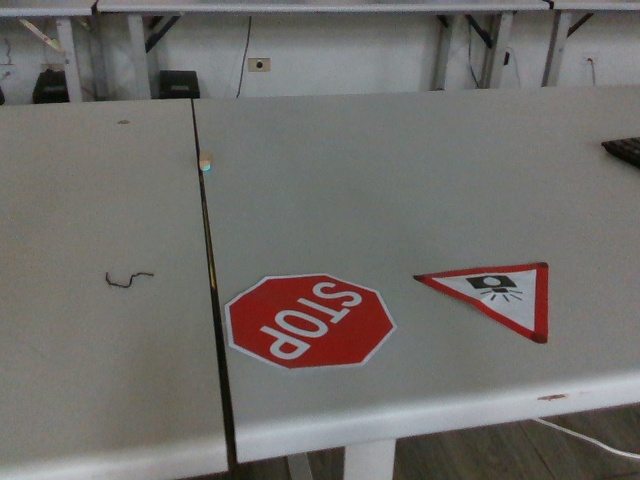camera: (415, 259, 557, 349)
stop: (222, 272, 398, 371)
